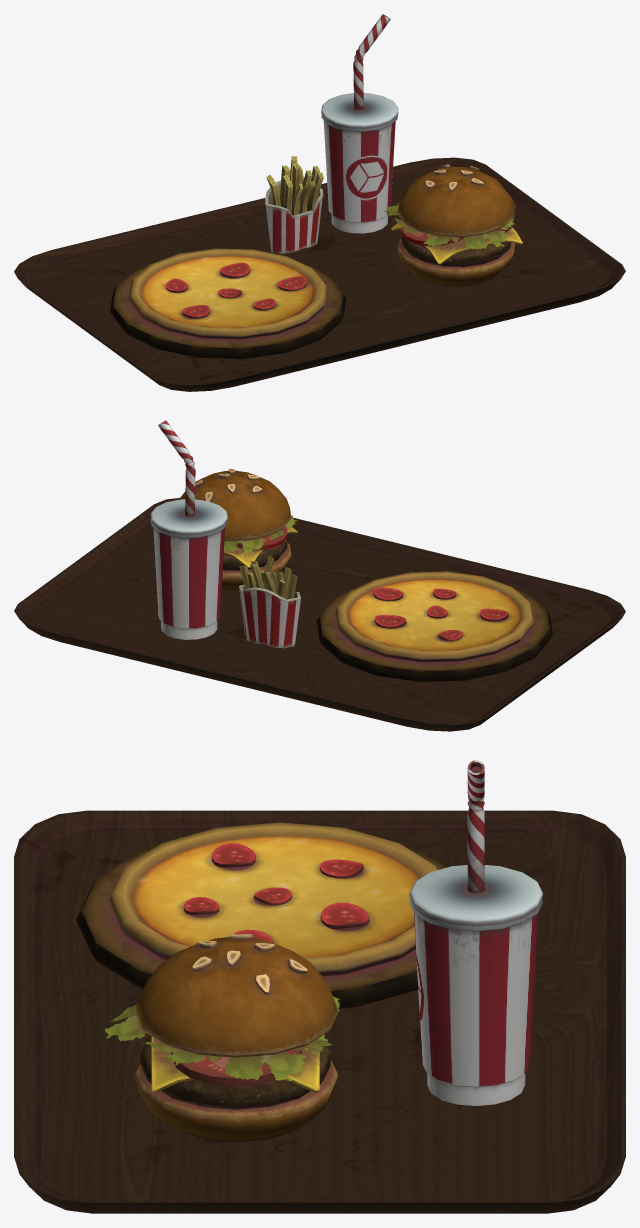
Rendered from uploads_files_3246560_fast_food.fbx.
3 renders of one model, top to bottom at view 1: azimuth 30°, elevation 25°; view 2: azimuth 150°, elevation 25°; view 3: azimuth 270°, elevation 25°, orthographic. The views are drawn at different scales.
Parts seen in each view (by area): view 1: tray_low.001, pizza_low.001, buns_low.001, cup_low.001, plate_low.001, filling_low.001, pack_low.001, lid_low.001, frie_low.001, straw_low.001; view 2: tray_low.001, pizza_low.001, cup_low.001, plate_low.001, buns_low.001, pack_low.001, lid_low.001, filling_low.001, frie_low.001, straw_low.001; view 3: tray_low.001, pizza_low.001, buns_low.001, cup_low.001, filling_low.001, plate_low.001, lid_low.001, straw_low.001.
Part boxes in pixels (box(x1,y1,x2,y2)): tray_low.001: box(14, 157, 625, 391); pizza_low.001: box(128, 248, 327, 339); buns_low.001: box(397, 164, 514, 286); cup_low.001: box(323, 121, 395, 233); plate_low.001: box(110, 260, 346, 358); filling_low.001: box(384, 202, 522, 267); pack_low.001: box(265, 180, 323, 253); lid_low.001: box(321, 93, 398, 131); frie_low.001: box(266, 156, 323, 215); straw_low.001: box(353, 14, 390, 110); tray_low.001: box(14, 498, 625, 731); pizza_low.001: box(335, 571, 534, 662); cup_low.001: box(153, 527, 225, 639); plate_low.001: box(316, 583, 552, 681); buns_low.001: box(179, 468, 291, 590); pack_low.001: box(239, 584, 300, 648); lid_low.001: box(150, 499, 227, 537); filling_low.001: box(223, 515, 297, 570); frie_low.001: box(239, 556, 297, 599); straw_low.001: box(158, 420, 195, 516); tray_low.001: box(14, 810, 625, 1213); pizza_low.001: box(108, 822, 437, 976); buns_low.001: box(134, 934, 338, 1142); cup_low.001: box(414, 912, 538, 1106); filling_low.001: box(105, 990, 340, 1109); plate_low.001: box(76, 847, 446, 1008); lid_low.001: box(409, 865, 542, 931); straw_low.001: box(467, 760, 484, 893).
Size of the model in its own units: 440 by 189 by 290.
